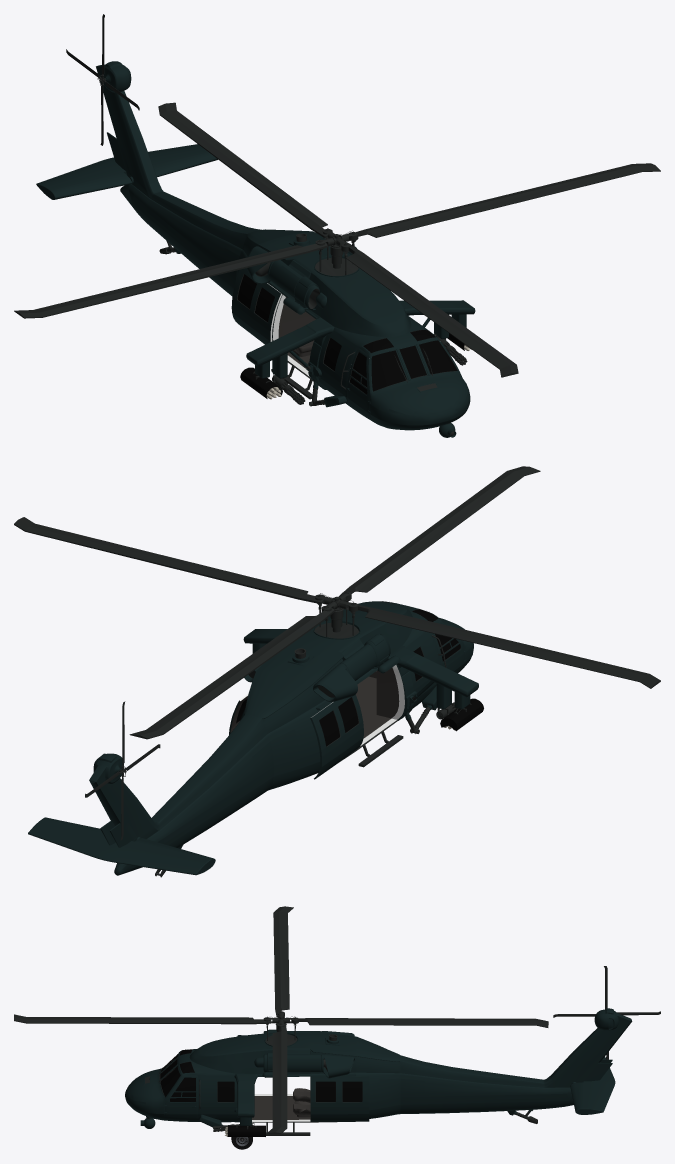
The picture shows the model from 3 angles, top to bottom: view 1: azimuth 30°, elevation 25°; view 2: azimuth 150°, elevation 25°; view 3: azimuth 270°, elevation 25°; orthographic projection. The views are drawn at different scales.
Parts seen in each view (by area): view 1: zsj0002, zsj0012, zsj0016, zsj0030, zsj0003, zsj0006, zsj0014, zsj0008; view 2: zsj0002, zsj0016, zsj0012, zsj0003, zsj0014, zsj0008; view 3: zsj0002, zsj0016, zsj0012, zsj0003, zsj0005, zsj0030, zsj0007, zsj0022, zsj0025, zsj0014, zsj0024, zsj0023.
Part boxes in pixels (x1,y1,x2,y2): zsj0002: (231, 229, 475, 430); zsj0012: (14, 102, 660, 377); zsj0016: (36, 61, 261, 296); zsj0030: (363, 330, 457, 391); zsj0003: (273, 291, 315, 376); zsj0006: (347, 348, 370, 417); zsj0014: (66, 14, 139, 145); zsj0008: (240, 367, 282, 399); zsj0002: (229, 601, 478, 790); zsj0016: (28, 714, 273, 877); zsj0012: (14, 466, 660, 739); zsj0003: (356, 665, 404, 745); zsj0014: (85, 701, 160, 840); zsj0008: (440, 698, 483, 731); zsj0002: (125, 1029, 400, 1135); zsj0016: (400, 1008, 632, 1123); zsj0012: (14, 906, 548, 1133); zsj0003: (252, 1077, 310, 1121); zsj0005: (165, 1075, 198, 1117); zsj0030: (160, 1049, 194, 1096); zsj0007: (225, 1125, 265, 1136); zsj0022: (170, 1077, 195, 1101); zsj0025: (342, 1081, 362, 1101); zsj0014: (553, 966, 660, 1059); zsj0024: (316, 1081, 335, 1101); zsj0023: (217, 1081, 234, 1101).
Size of the model in its own units: 644 by 208 by 780.
11 materials, 10 textured.
